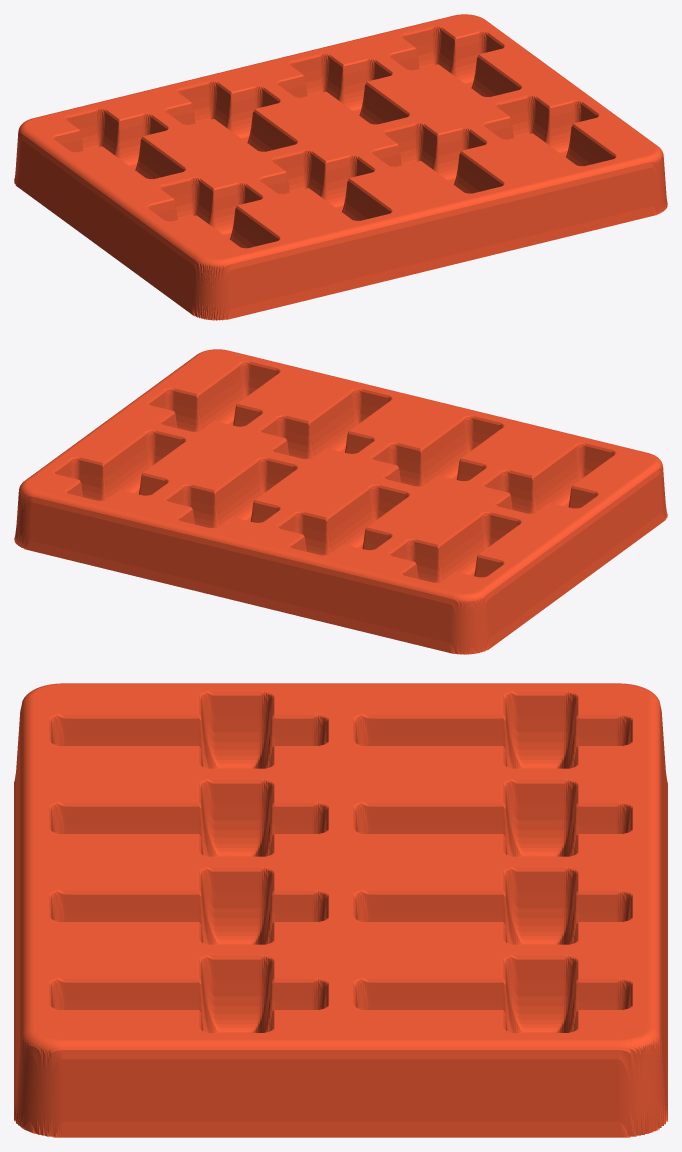
File: mold.glb
3 renders of one model, top to bottom at view 1: azimuth 30°, elevation 25°; view 2: azimuth 150°, elevation 25°; view 3: azimuth 270°, elevation 25°, orthographic. The views are drawn at different scales.
Visible parts, largest first — view 1: geometry_0; view 2: geometry_0; view 3: geometry_0.
Boxes of the visible parts, box(x1,y1,x2,y2) form: geometry_0: box(14, 14, 667, 320); geometry_0: box(14, 349, 667, 654); geometry_0: box(14, 683, 667, 1137).
Bounding box in the file's own units: 0.1642 × 0.0185 × 0.1222.
